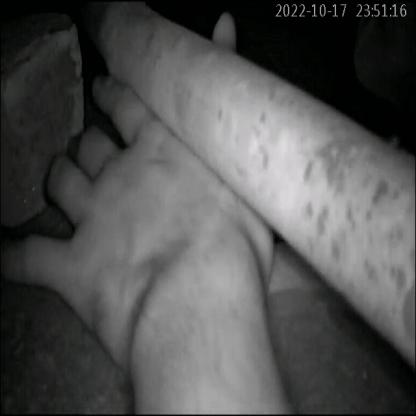hand: (1, 5, 300, 416)
